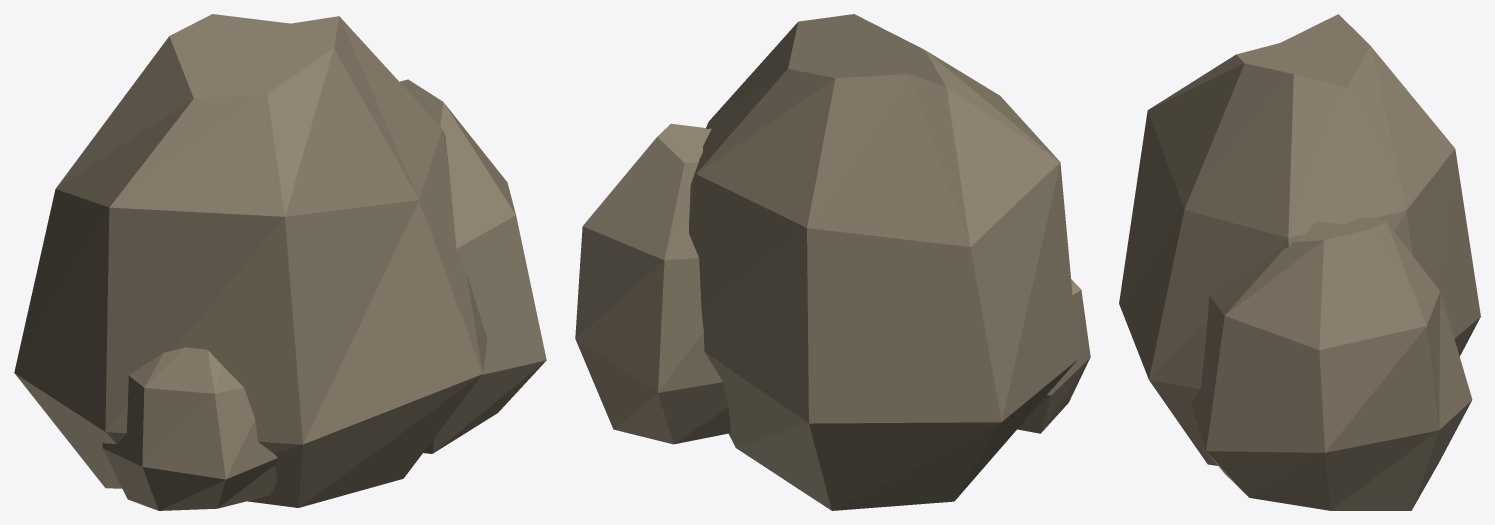
File: boulder.glb
3 renders of one model, left to right at view 1: azimuth 30°, elevation 25°; view 2: azimuth 150°, elevation 25°; view 3: azimuth 270°, elevation 25°, orthographic. The views are drawn at different scales.
Parts seen in each view (by area): view 1: boulder; view 2: boulder; view 3: boulder.
Part boxes in pixels (x1,y1,x2,y2): boulder: (14,14,546,510); boulder: (575,14,1090,510); boulder: (1119,14,1480,510).
Size of the model in its own units: 0.8531 by 0.7695 by 0.6304.
